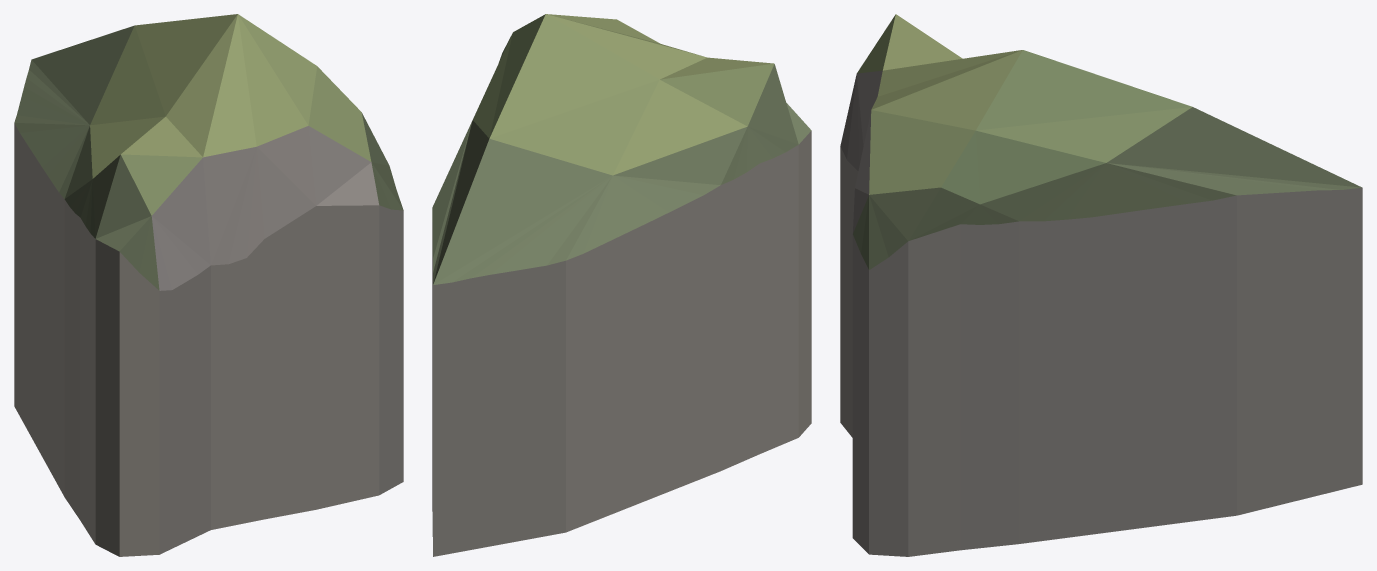
Rendered from cliff_western_slab.glb.
3 renders of one model, left to right at view 1: azimuth 30°, elevation 25°; view 2: azimuth 150°, elevation 25°; view 3: azimuth 270°, elevation 25°, orthographic. The views are drawn at different scales.
Visible parts, largest first — view 1: cliff_western_slab; view 2: cliff_western_slab; view 3: cliff_western_slab.
Part boxes in pixels (<box>): cliff_western_slab: <box>14,14,403,556</box>; cliff_western_slab: <box>432,14,811,556</box>; cliff_western_slab: <box>840,14,1362,556</box>.
Bounding box in the file's own units: 55.6 × 77.32 × 79.97.
